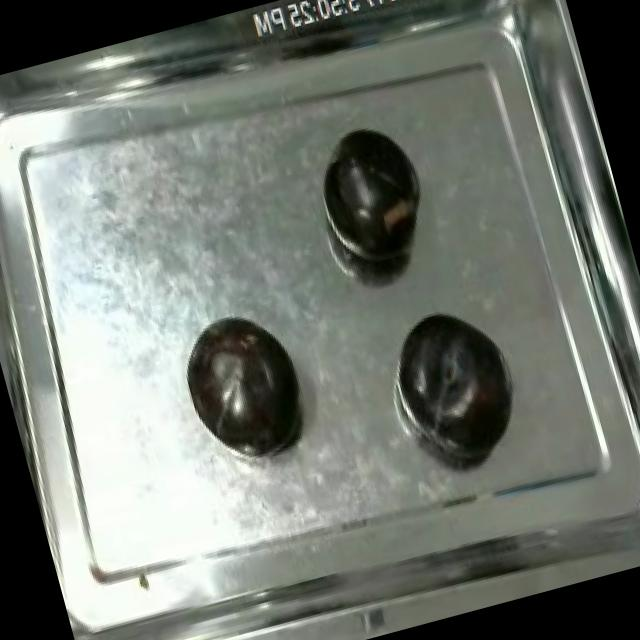Fruit: (168, 296, 322, 470), (380, 292, 530, 468), (314, 118, 438, 272)
